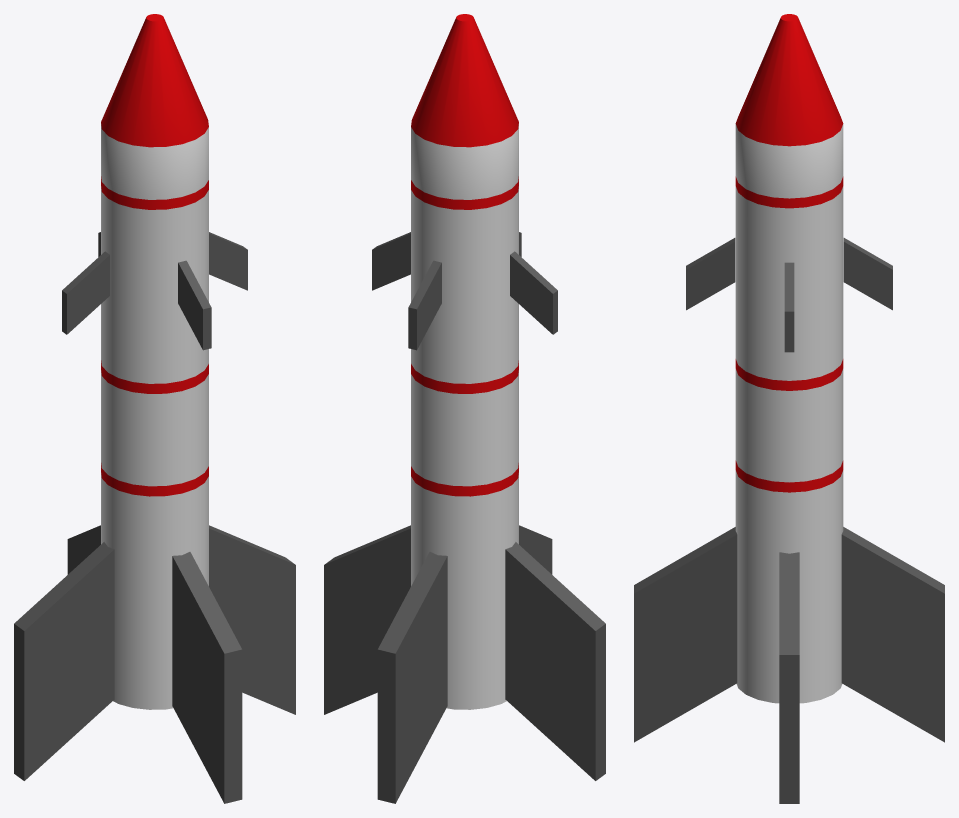
File: Rocket.002.fbx
3 renders of one model, left to right at view 1: azimuth 30°, elevation 25°; view 2: azimuth 150°, elevation 25°; view 3: azimuth 270°, elevation 25°, orthographic.
Visible parts, largest first — view 1: Cylinder; view 2: Cylinder; view 3: Cylinder.
Boxes of the visible parts, <box> form: Cylinder: <box>14,14,295,803</box>; Cylinder: <box>324,14,605,803</box>; Cylinder: <box>634,14,944,803</box>.
Size of the model in its own units: 295 by 754 by 295.
